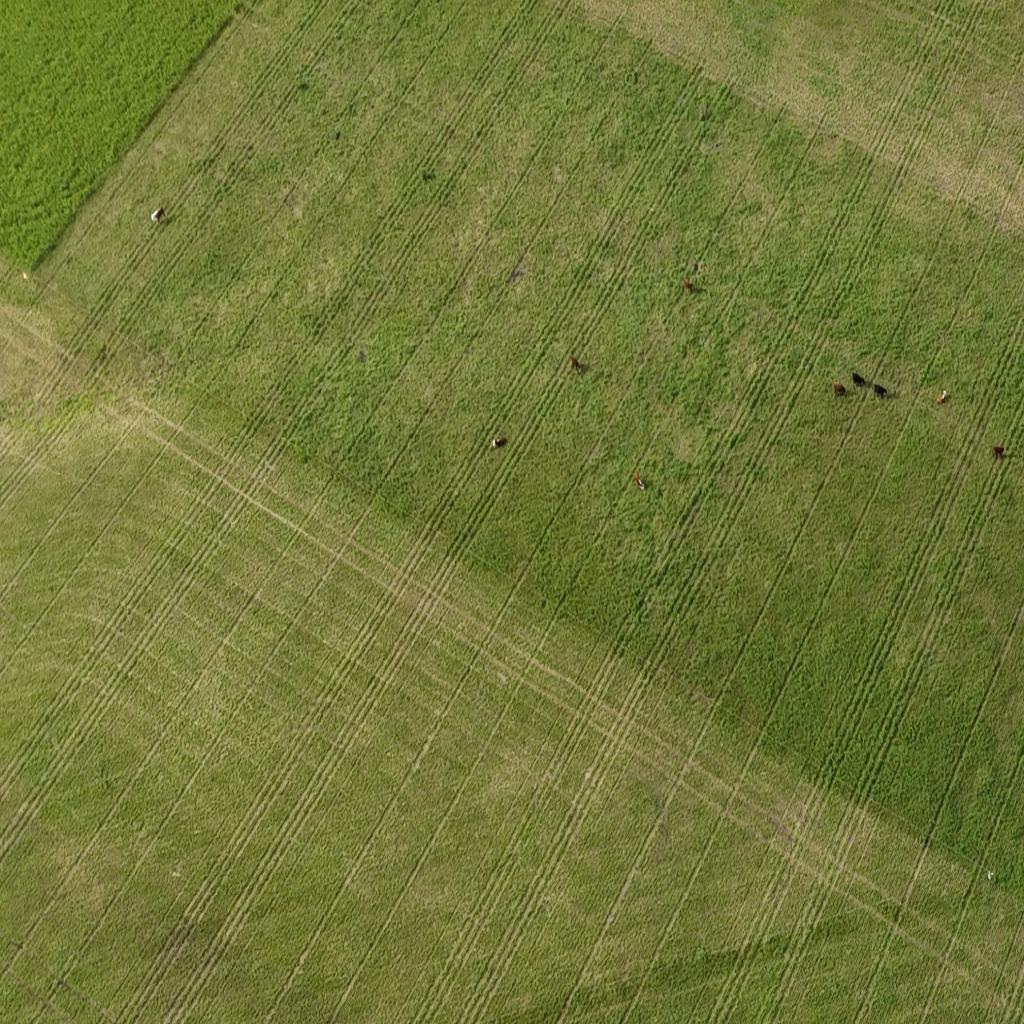cow: (568, 352, 585, 379), (633, 471, 645, 490), (150, 207, 164, 223), (852, 372, 866, 387), (490, 434, 504, 448), (936, 388, 948, 404), (834, 382, 846, 396), (874, 384, 886, 398), (992, 444, 1006, 456), (684, 278, 692, 292)
